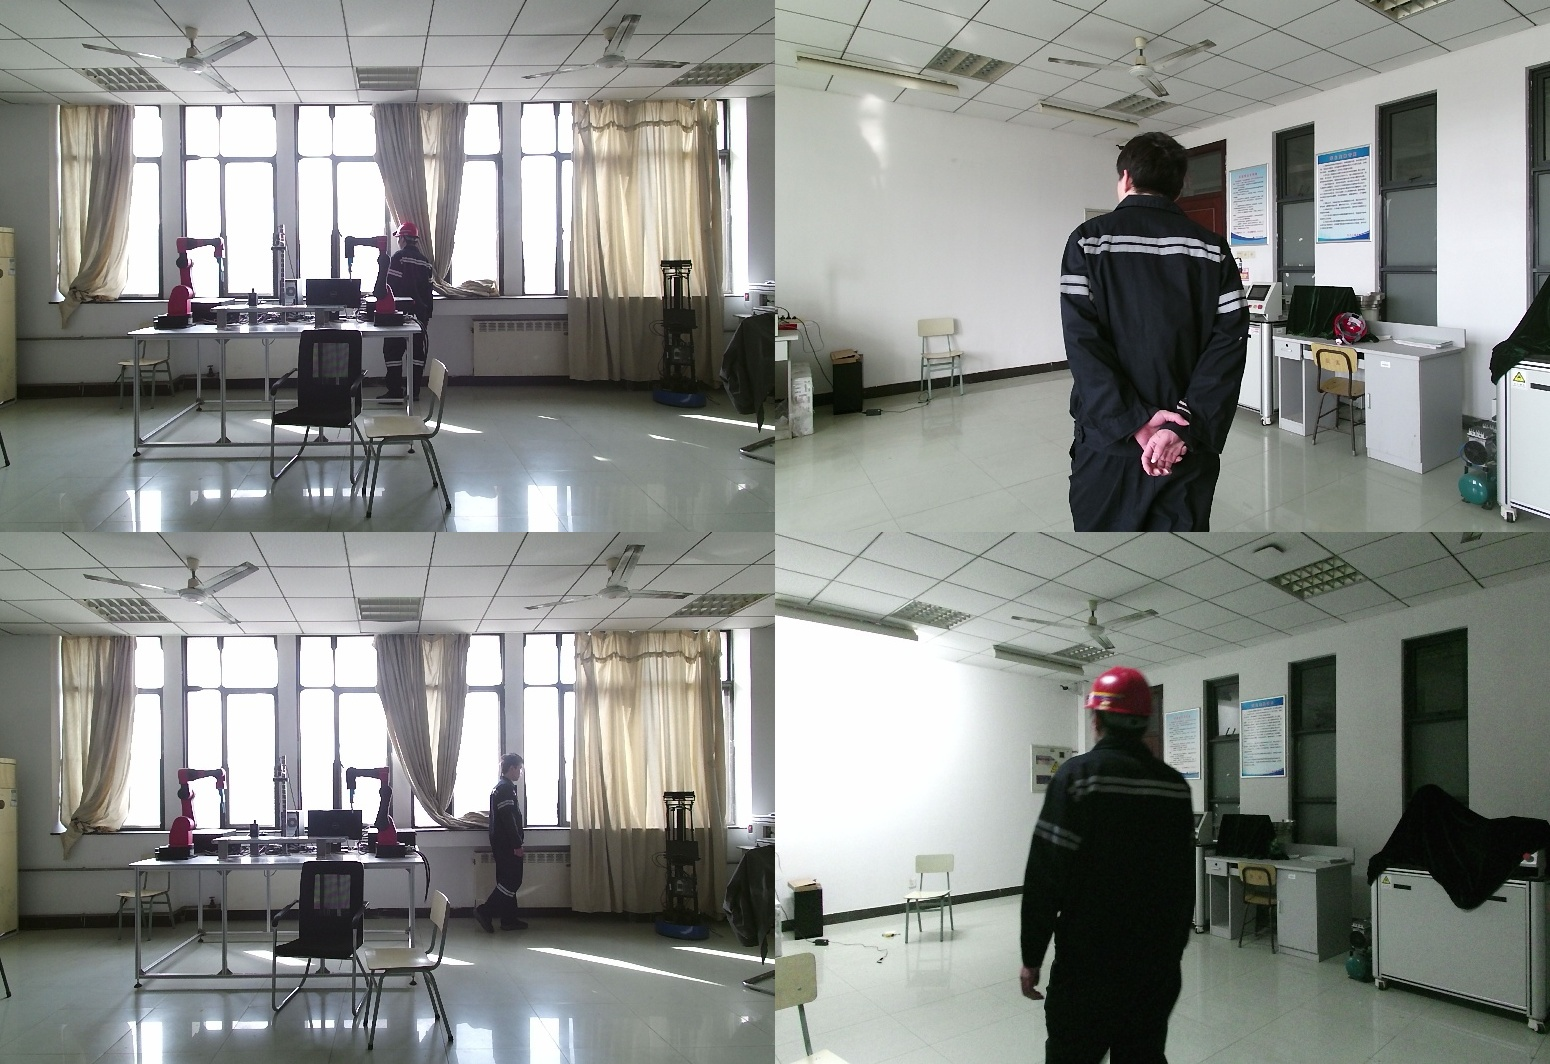person: (1063, 132, 1269, 532), (1021, 667, 1217, 1064), (464, 752, 529, 940), (373, 224, 437, 402)
